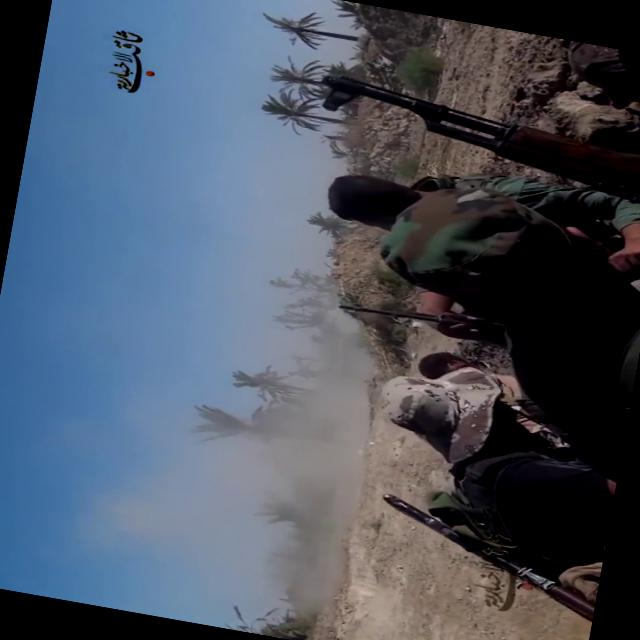long weapon: (293, 56, 639, 215), (308, 282, 532, 352)
